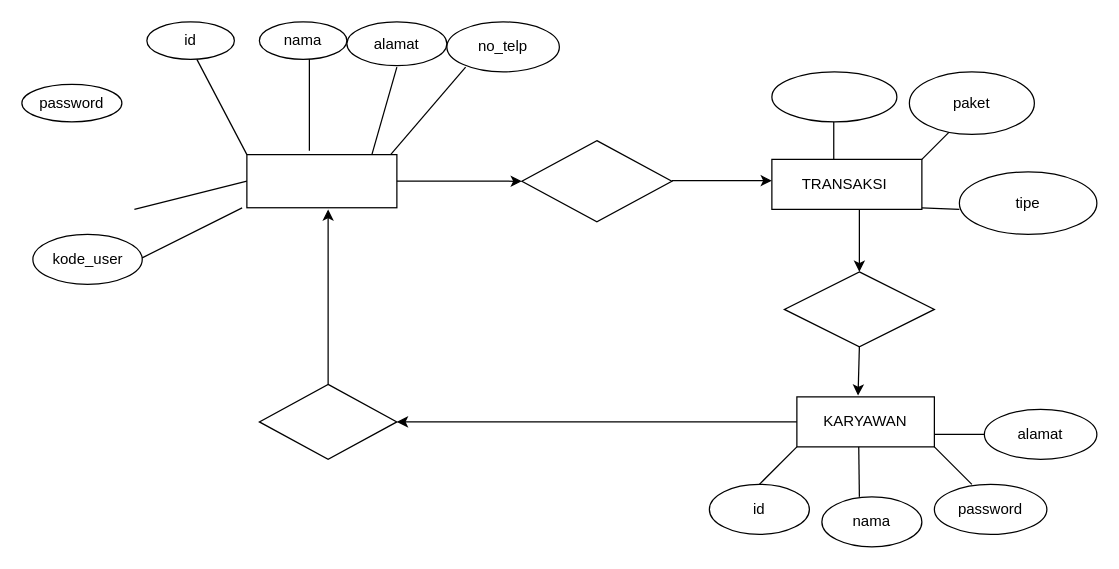
Image size: 1119x569. Some labels were removed from this diagram. The centre of each missing label's shape, as x and y in pixels:
DIKOLOLA: pixel 858 309
KOSUMEN: pixel 321 180
MELAKUKAN: pixel 596 180
MELAYANI: pixel 327 421
status: pixel 834 96
